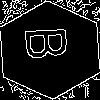B: (25, 25, 78, 62)
